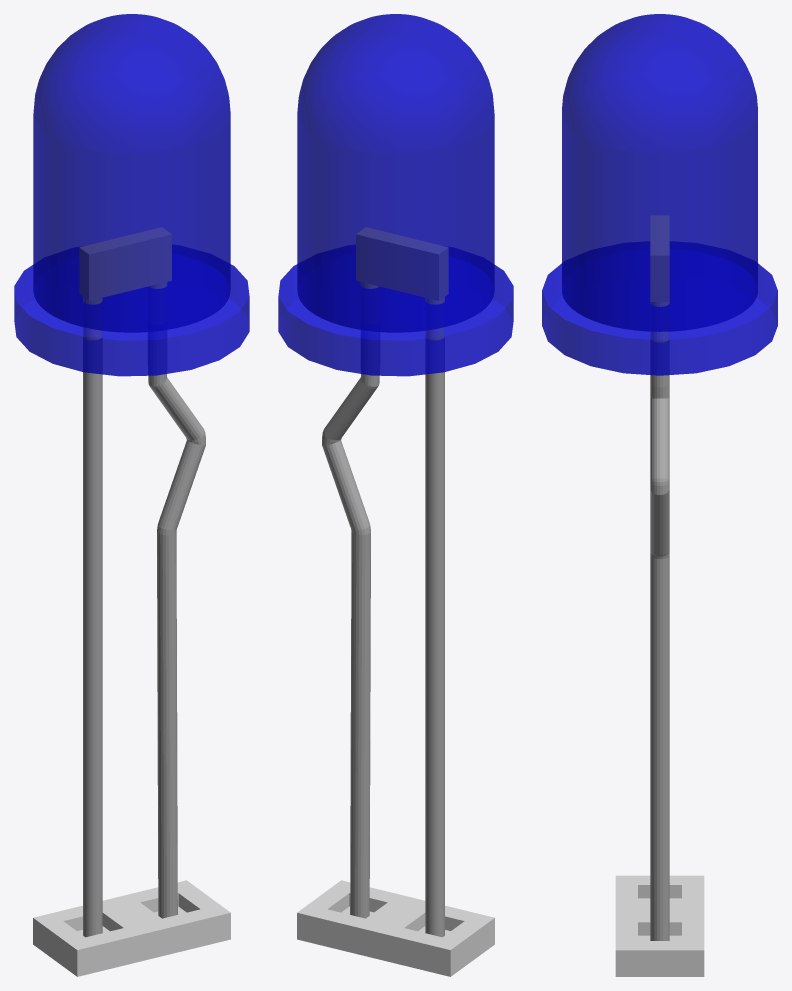
File: Led-Azul.fbx
3 views of the same model, side by side, from view 1: azimuth 30°, elevation 25°; view 2: azimuth 150°, elevation 25°; view 3: azimuth 270°, elevation 25° (orthographic).
Visible parts, largest first — view 1: CabezaLed, BaseLed, Pata2Led, Pata1Led, ProtoboardLedAzul, CircuitoLed; view 2: CabezaLed, BaseLed, Pata2Led, Pata1Led, ProtoboardLedAzul, CircuitoLed; view 3: CabezaLed, BaseLed, Pata1Led, ProtoboardLedAzul, CircuitoLed.
Boxes of the visible parts, left/top/right/bottom form: CabezaLed: left=33, top=14, right=230, bottom=332; BaseLed: left=14, top=253, right=249, bottom=376; Pata2Led: left=83, top=297, right=102, bottom=937; Pata1Led: left=148, top=282, right=205, bottom=918; ProtoboardLedAzul: left=33, top=880, right=230, bottom=976; CircuitoLed: left=79, top=227, right=171, bottom=300; CabezaLed: left=297, top=14, right=494, bottom=332; BaseLed: left=278, top=253, right=513, bottom=376; Pata2Led: left=425, top=297, right=444, bottom=937; Pata1Led: left=322, top=282, right=379, bottom=918; ProtoboardLedAzul: left=297, top=880, right=494, bottom=976; CircuitoLed: left=356, top=227, right=448, bottom=300; CabezaLed: left=562, top=14, right=757, bottom=331; BaseLed: left=542, top=249, right=777, bottom=375; Pata1Led: left=650, top=302, right=669, bottom=940; ProtoboardLedAzul: left=615, top=875, right=704, bottom=976; CircuitoLed: left=650, top=215, right=669, bottom=301.
Size of the model in its own units: 0.12 by 0.5145 by 0.12.
